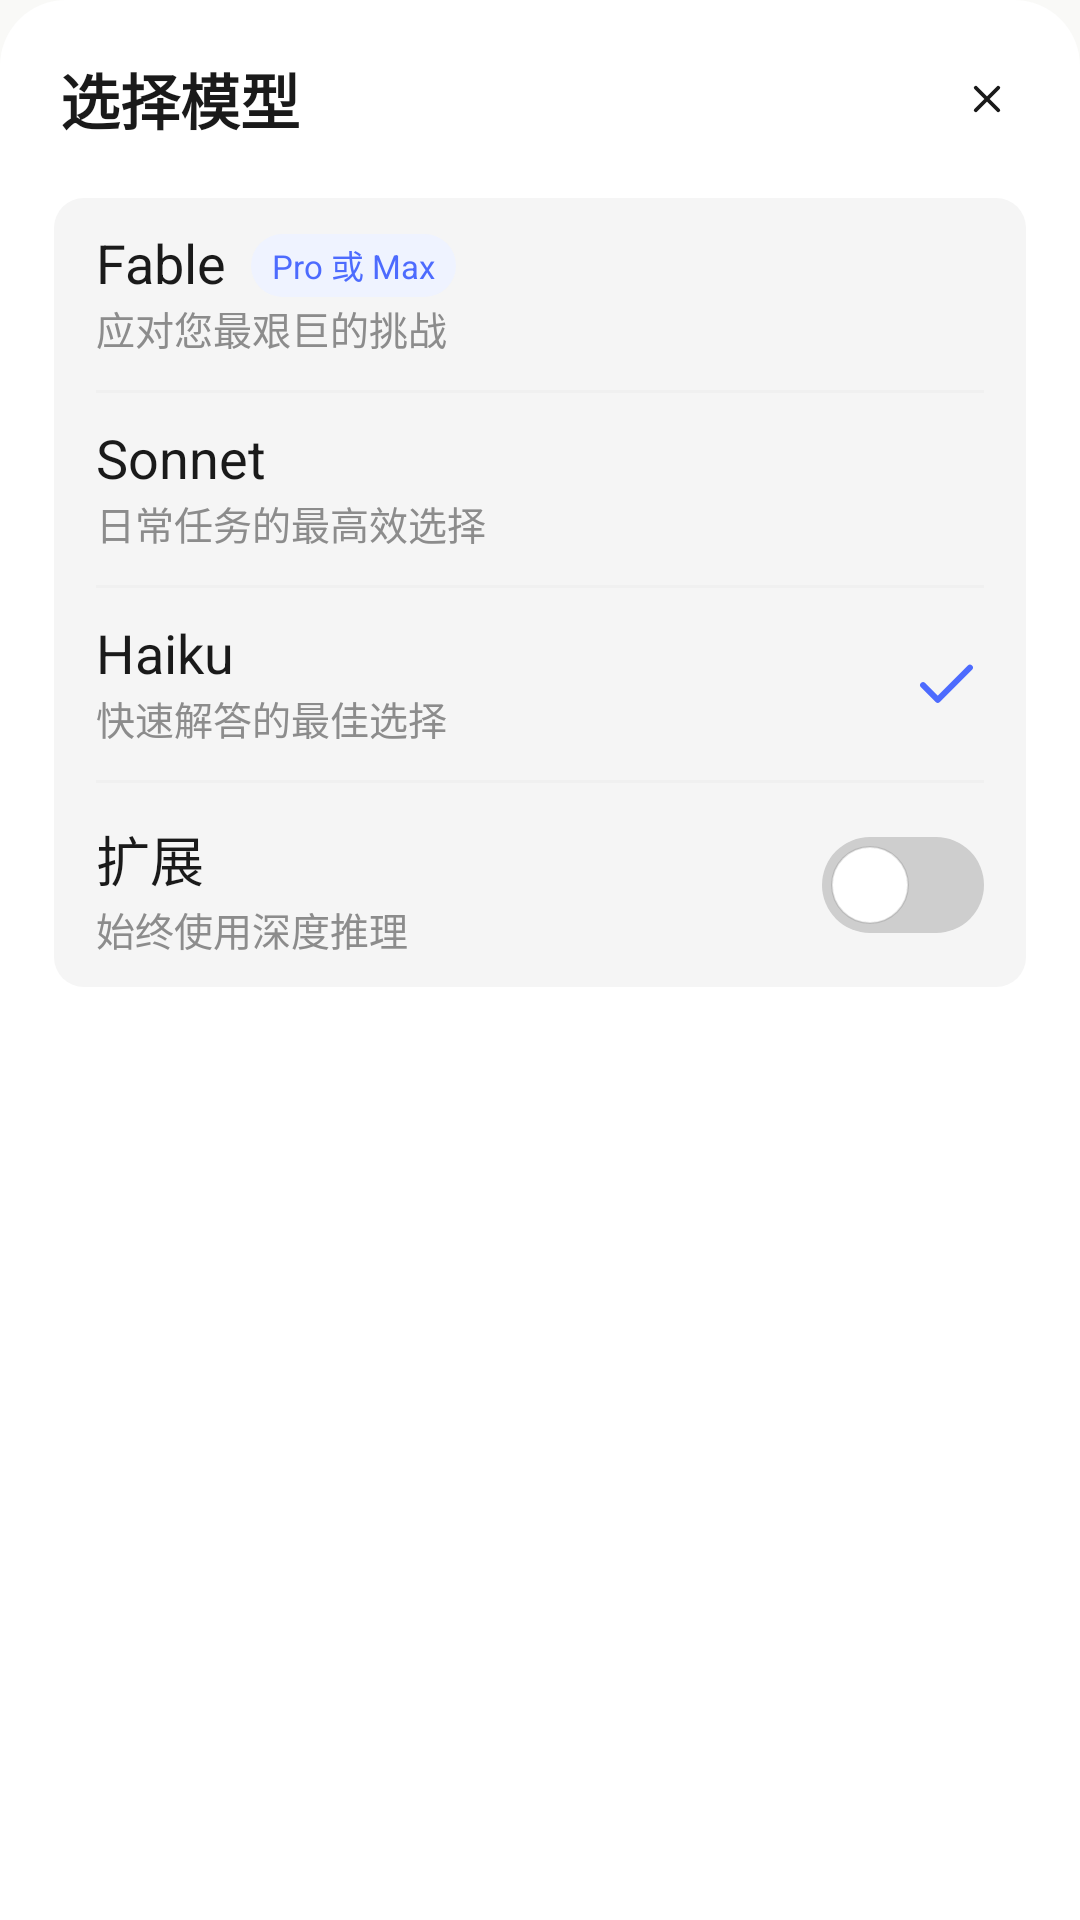

Icon bounding boxes for this 1080×1920 phone screenshot, format (x1, y1, x2, y2):
check: (920, 664, 973, 703)
关闭: (973, 85, 1001, 113)
